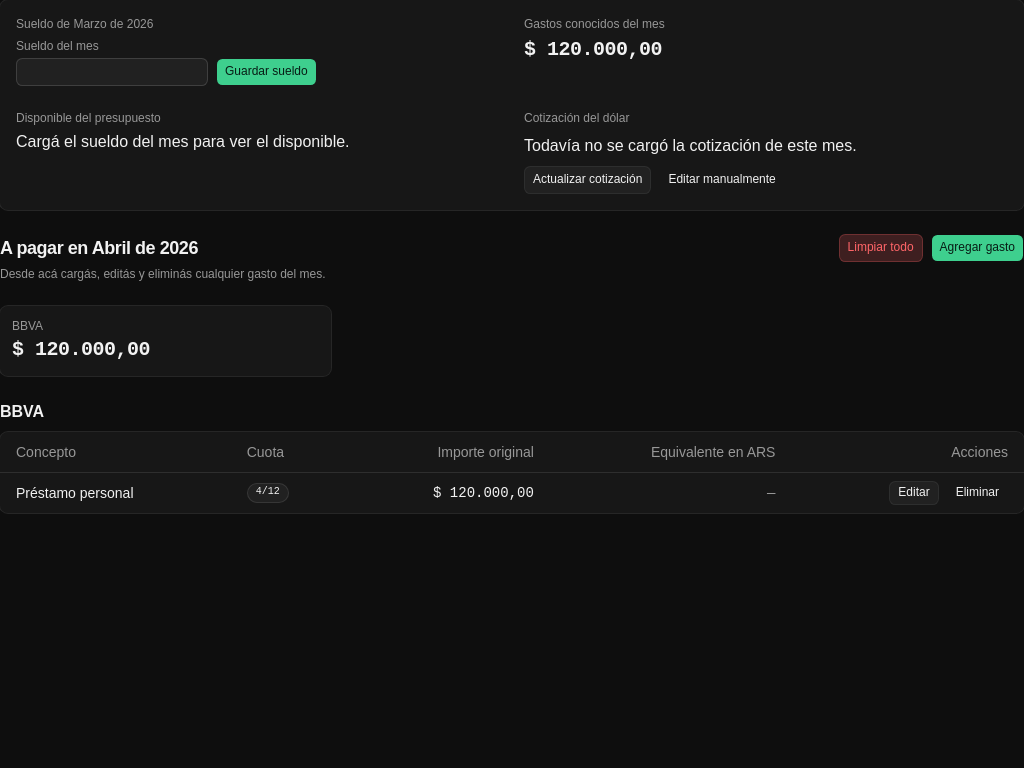
Test case: préstamos desde Presupuesto › no deja reducir el total por debajo de la cuota que se está editando
This screenshot has width=1024, height=768.
Click the button "Editar" at [914, 492], box [889,480,939,504]
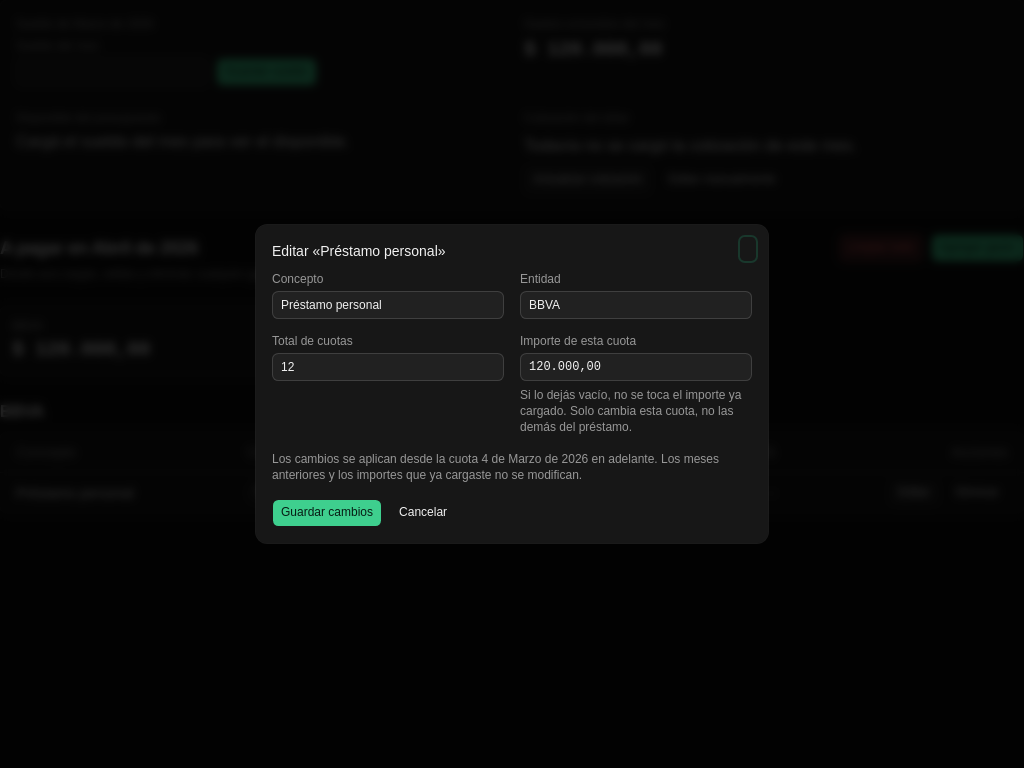
Replace the text in the number field labelled "Total de cuotas" with "2" at [388, 367], box [272,353,504,381]
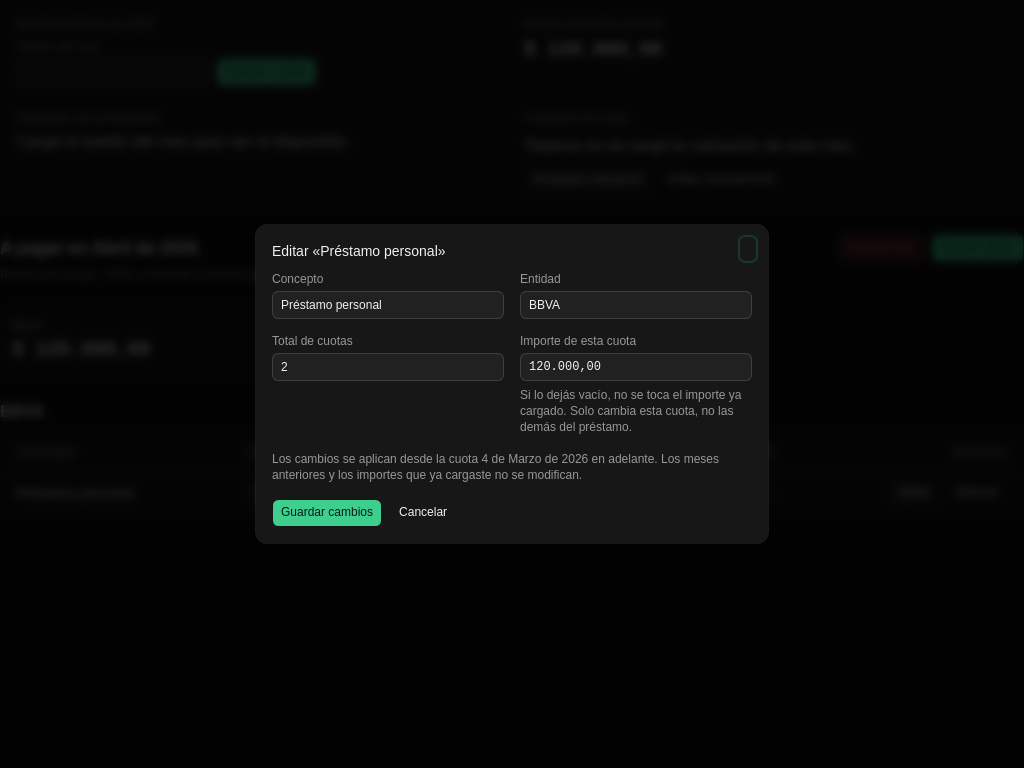
Click the button "Guardar cambios" at [327, 513], box [272,499,382,527]
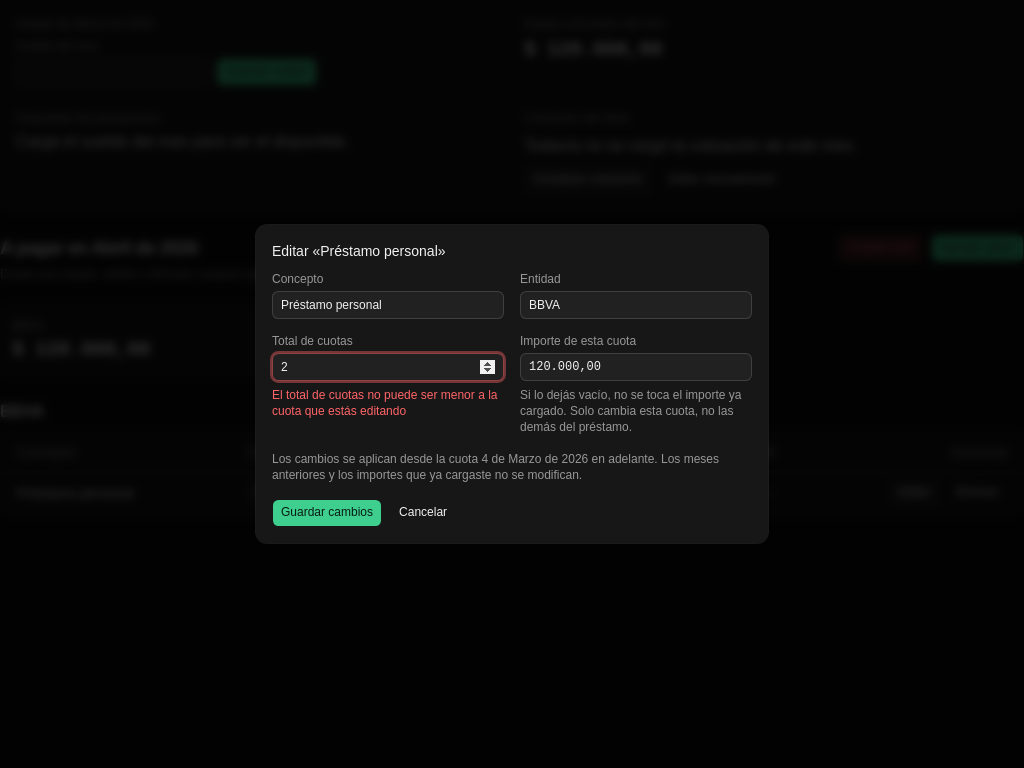
Expected: the text "El total de cuotas no puede ser menor a la cuota que estás editando" is shown, [272,387,504,419]
